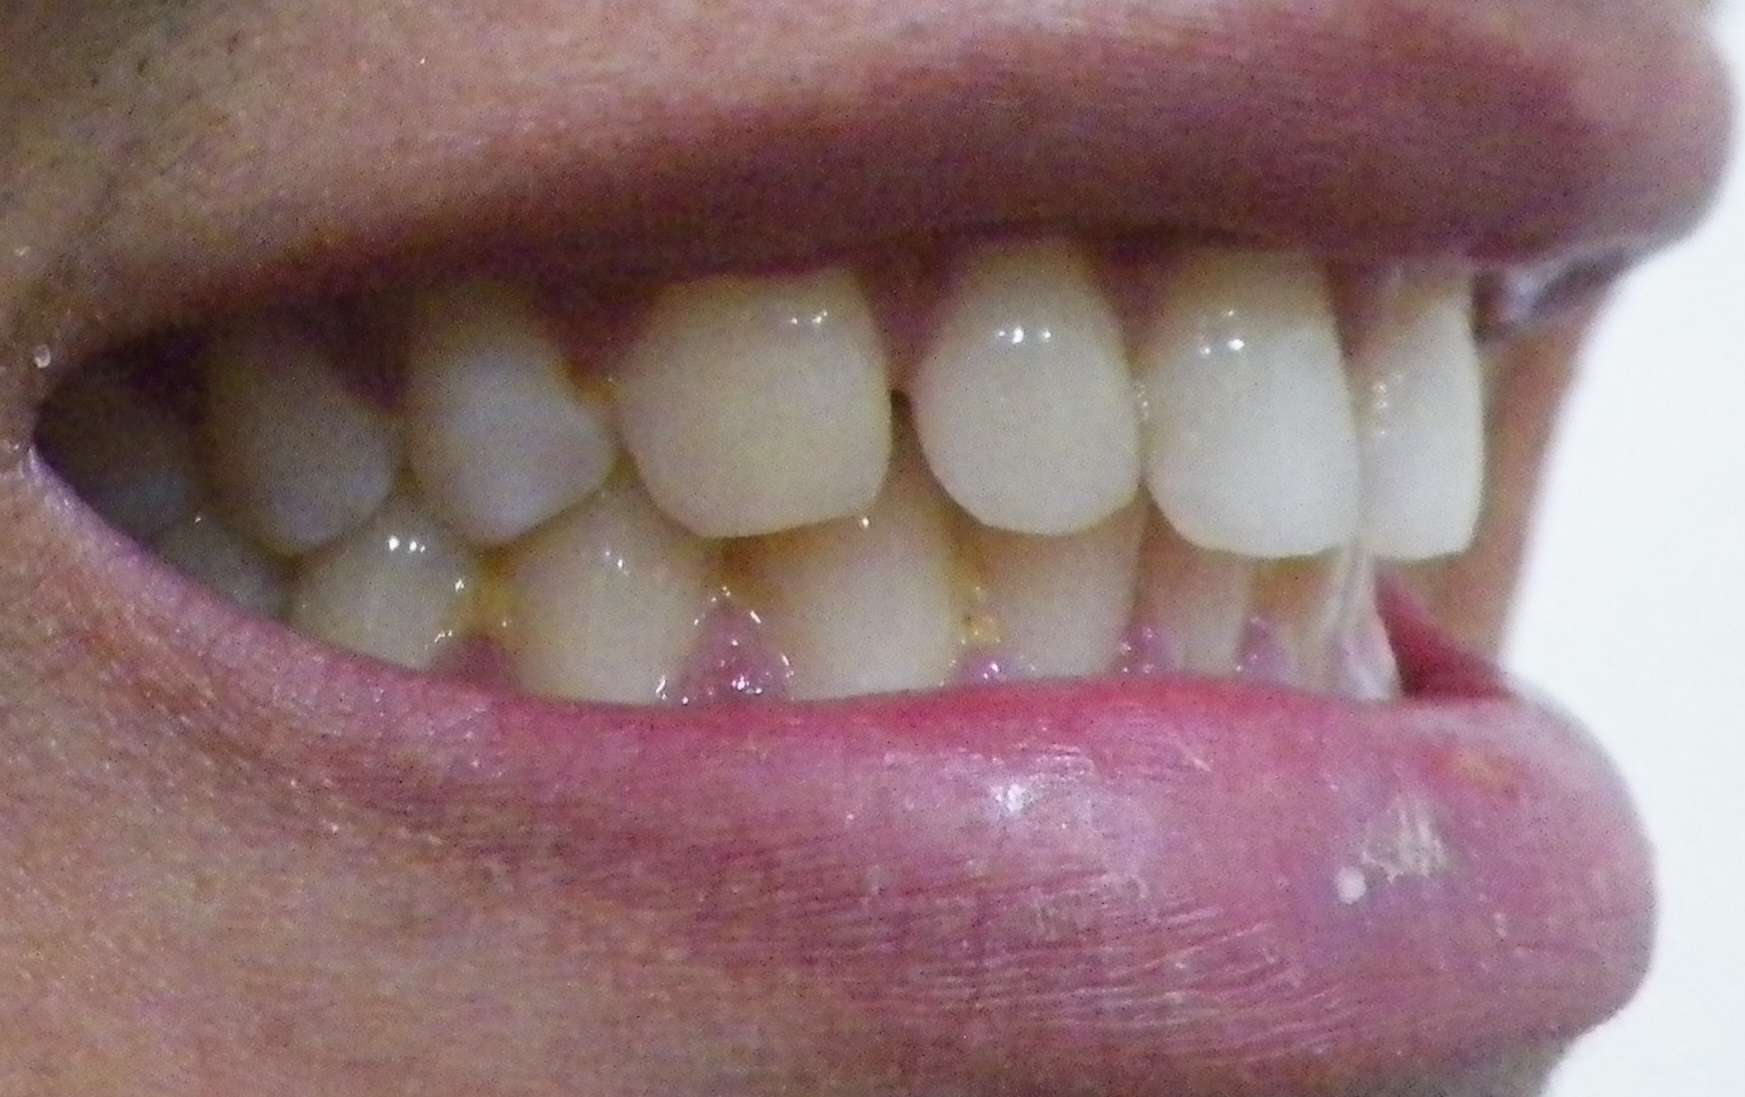boca: (128, 255, 1513, 682)
